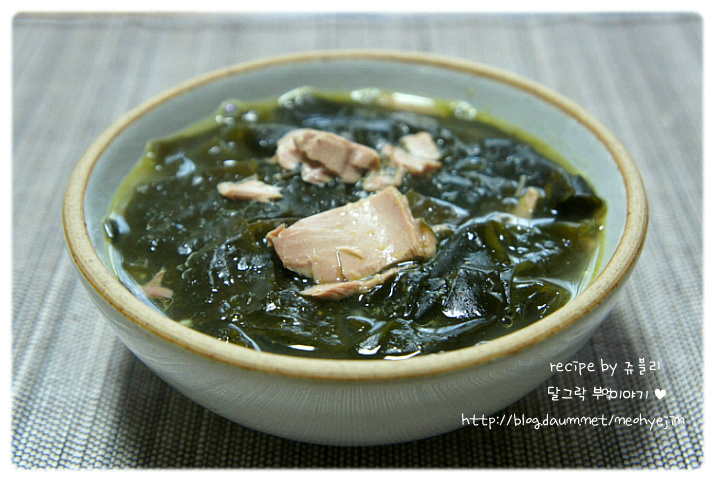miyeoggug: (75, 59, 635, 352)
